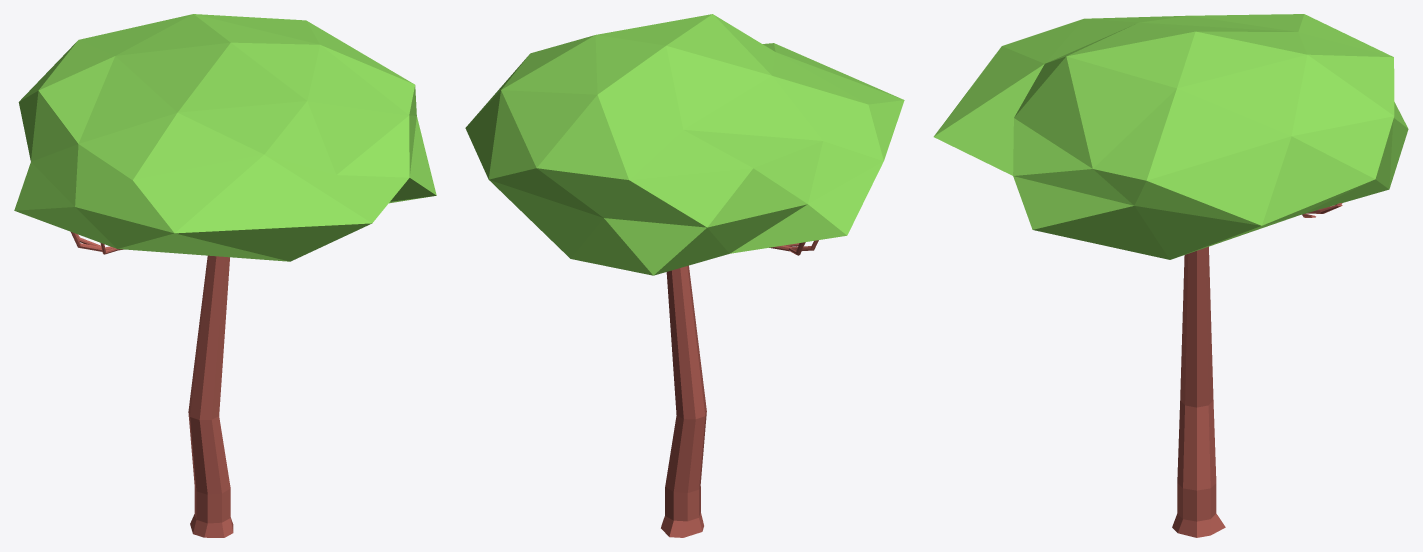
The model's file is Tree4_summer.FBX.
3 views of the same model, side by side, from view 1: azimuth 30°, elevation 25°; view 2: azimuth 150°, elevation 25°; view 3: azimuth 270°, elevation 25° (orthographic). The views are drawn at different scales.
Parts seen in each view (by area): view 1: tree5; view 2: tree5; view 3: tree5.
Boxes of the visible parts, <box> form: tree5: <box>14,14,436,537</box>; tree5: <box>465,14,904,537</box>; tree5: <box>933,14,1408,537</box>.
Bounding box in the file's own units: 5.69 × 7.07 × 6.03.
